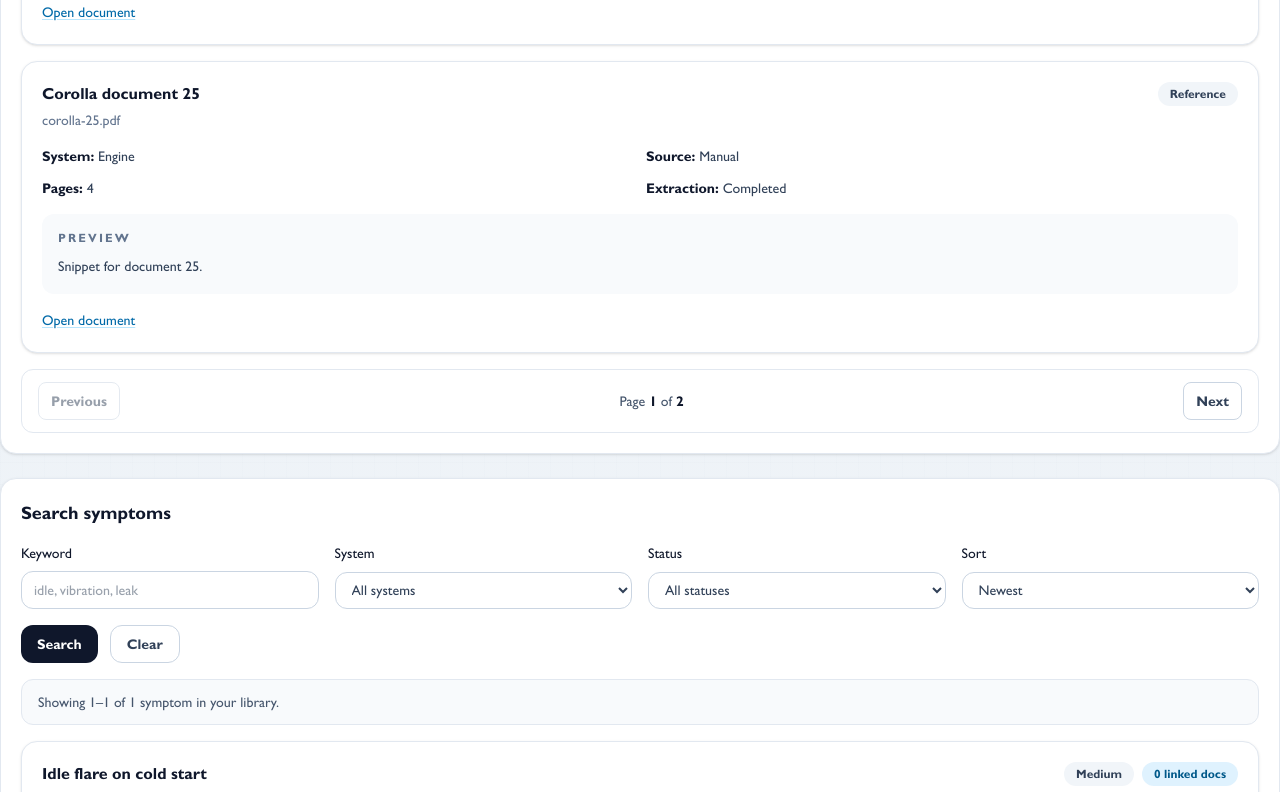
it: Previous and Next are disabled at the first and last page
(page scrolled)
Expected: the button "Previous" is disabled, [38,382,120,420]
Expected: the navigation bar named "Document result pages" shows "Page 1 of 2", [21,369,1259,433]
Click the button "Next": (1213, 401) [1183,382,1242,420]
(page scrolled)
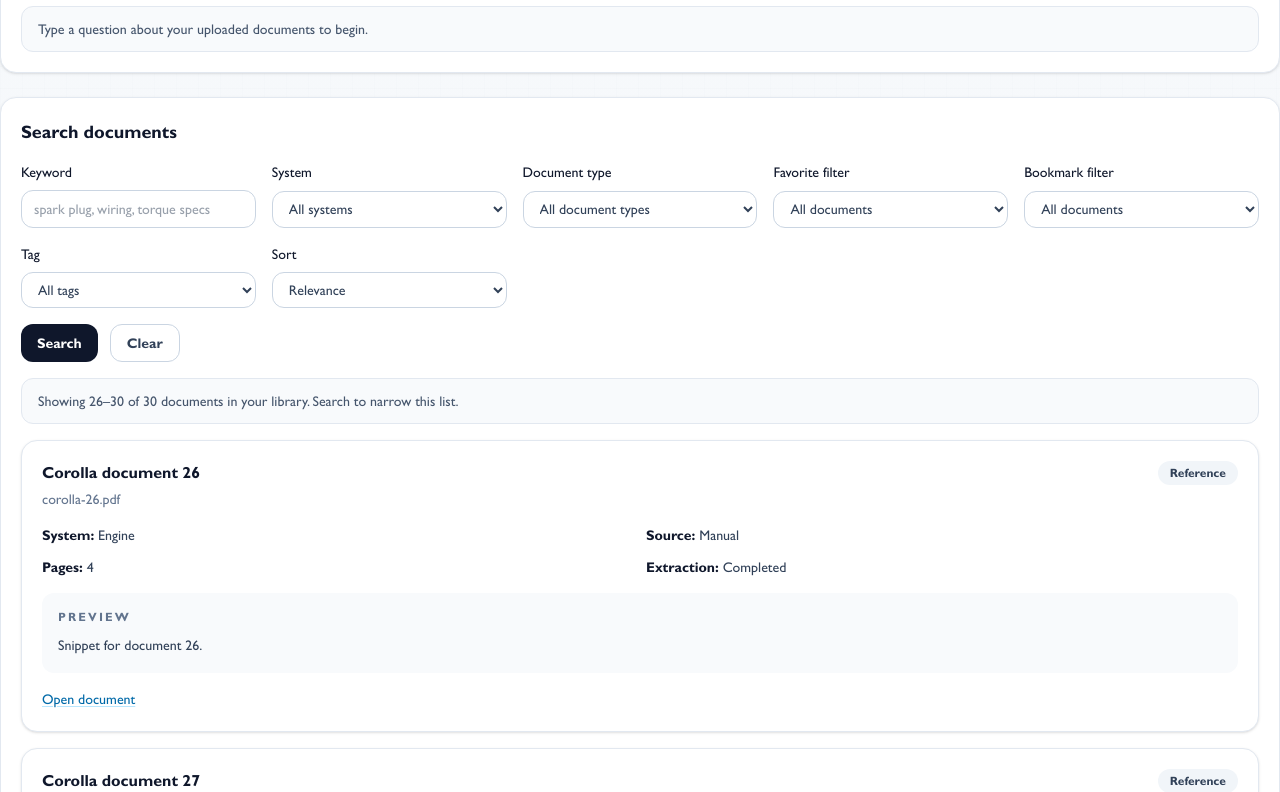
Expected: the text "Showing 26–30 of 30 documents in your library. Search to narrow this list." is shown, [21,378,1259,424]
